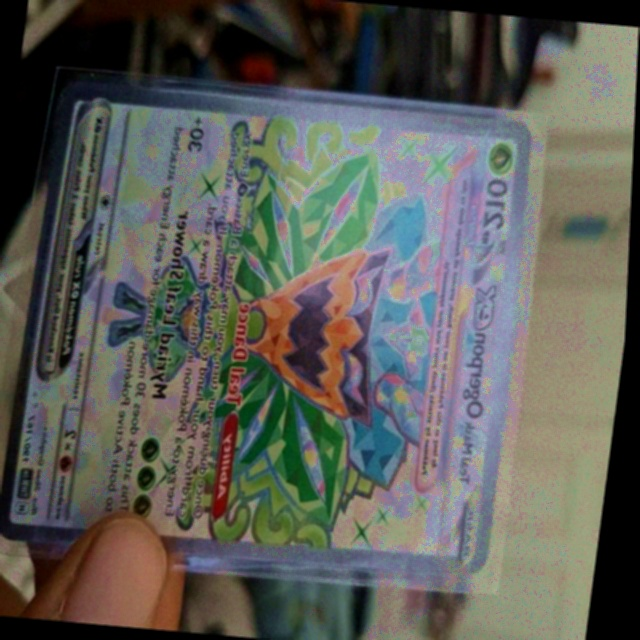card: (0, 77, 534, 577)
